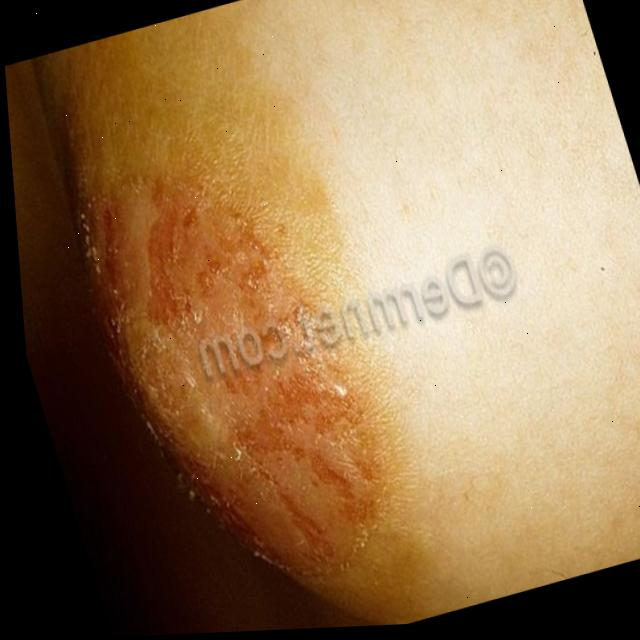Eczema: (50, 104, 438, 621)
